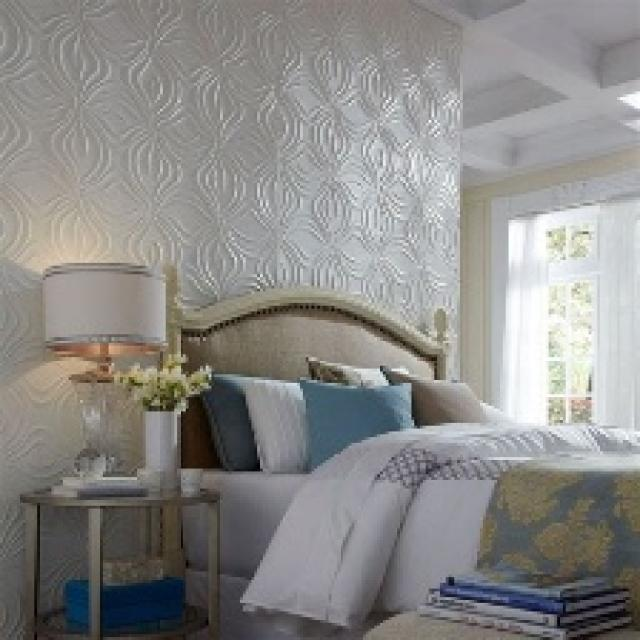Bed: (169, 280, 637, 637)
